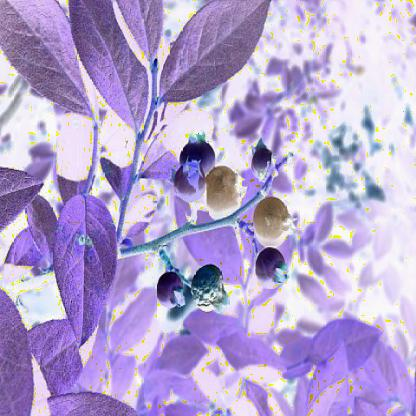Blueberry leaf: (158, 2, 288, 119), (48, 186, 118, 359), (4, 1, 96, 129), (75, 1, 159, 131)
